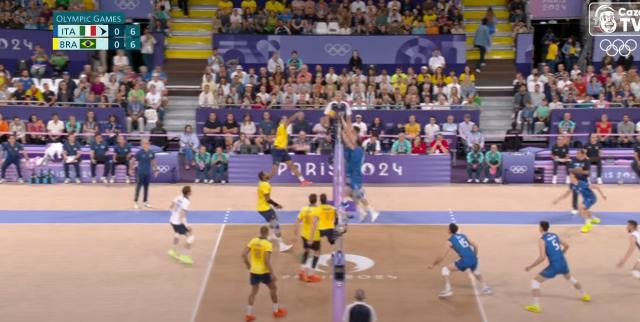Levantador: (317, 192, 335, 246)
Libero: (167, 187, 195, 259), (620, 218, 640, 276)
bola: (326, 106, 338, 120)
